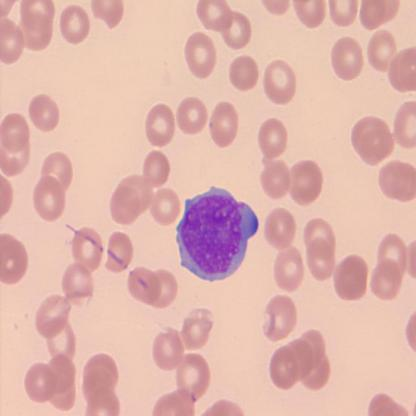Blast: (172, 182, 260, 283)
